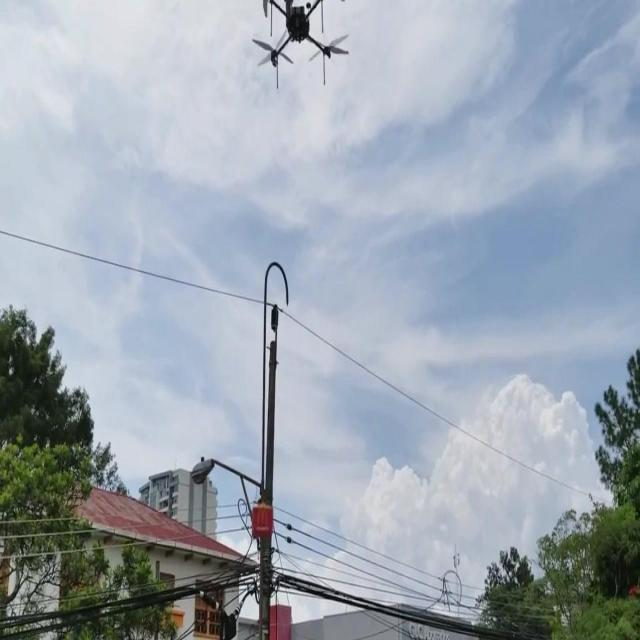UAV: (252, 0, 349, 90)
